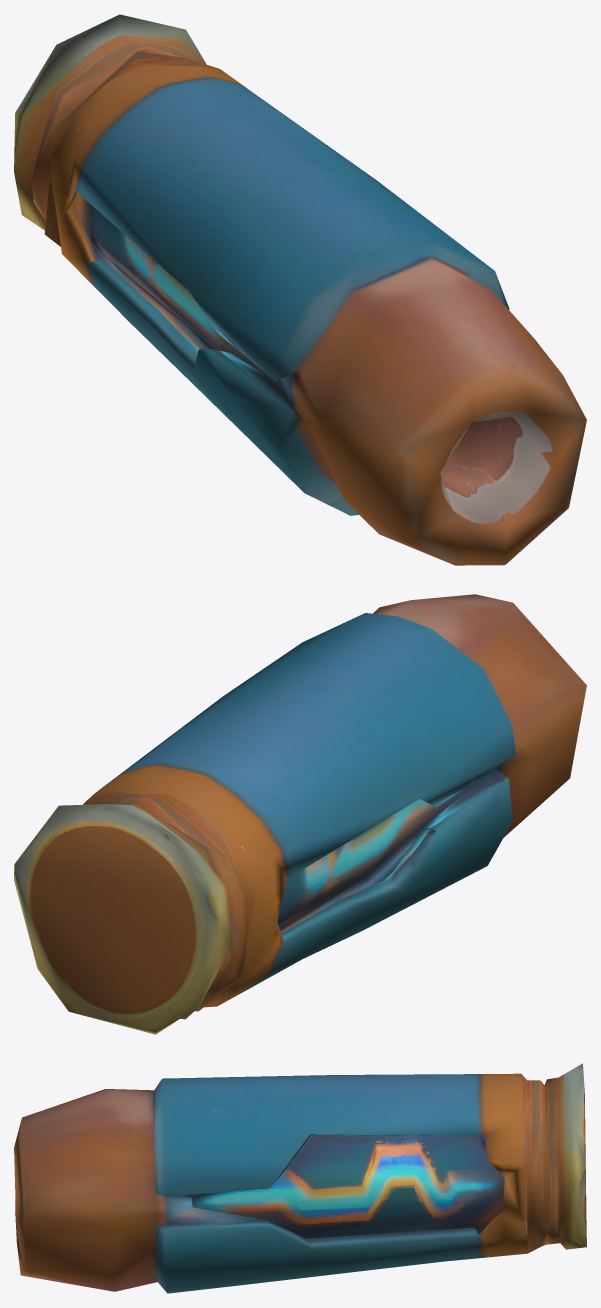
Rendered from shotgun_ammo.fbx.
The picture shows the model from 3 angles, top to bottom: view 1: azimuth 30°, elevation 25°; view 2: azimuth 150°, elevation 25°; view 3: azimuth 270°, elevation 25°; orthographic projection. The views are drawn at different scales.
Parts seen in each view (by area): view 1: tripo_node_2536768e; view 2: tripo_node_2536768e; view 3: tripo_node_2536768e.
Boxes of the visible parts, x1,y1,x2,y2 form: tripo_node_2536768e: (14,14,586,565); tripo_node_2536768e: (14,594,586,1034); tripo_node_2536768e: (14,1063,586,1293).
Bounding box in the file's own units: 0.3503 × 0.4113 × 1.
Materials: 1 (1 with a texture image).
